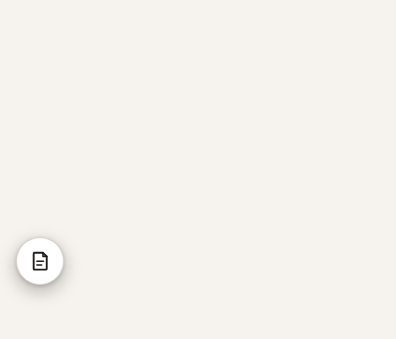
Scenario: Scratchpad › starts as a minimised button and opens the panel on click
What coordinates should you click on to do the following:
click the button with test id "scratchpad-toggle"
I would click on:
 (40, 261)
Its box is [16, 237, 64, 285].
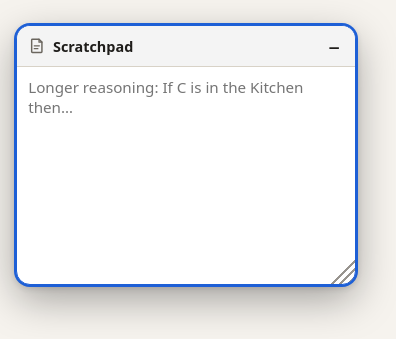
Check: the element with test id "scratchpad-panel" is shown
